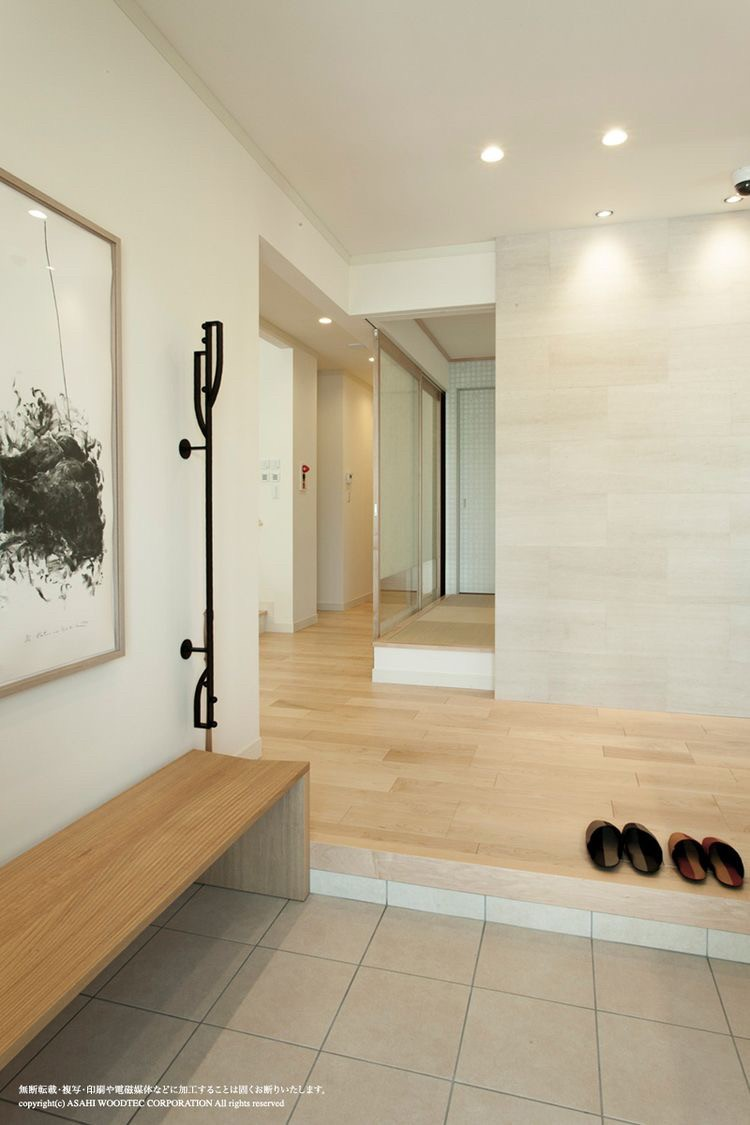floor: (0, 882, 749, 1124)
